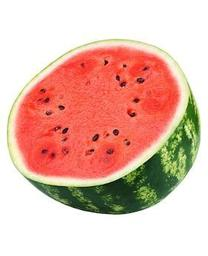watermelon: (9, 40, 202, 214)
